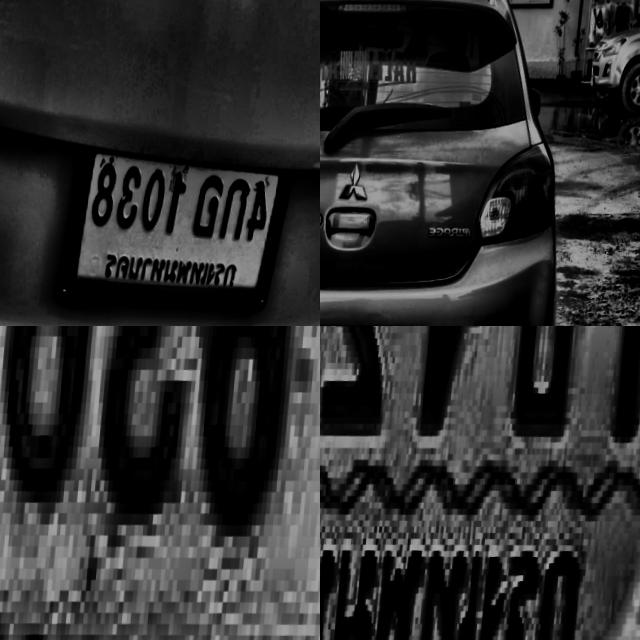license-plate: (0, 326, 320, 640), (320, 326, 640, 640), (55, 130, 296, 326)
